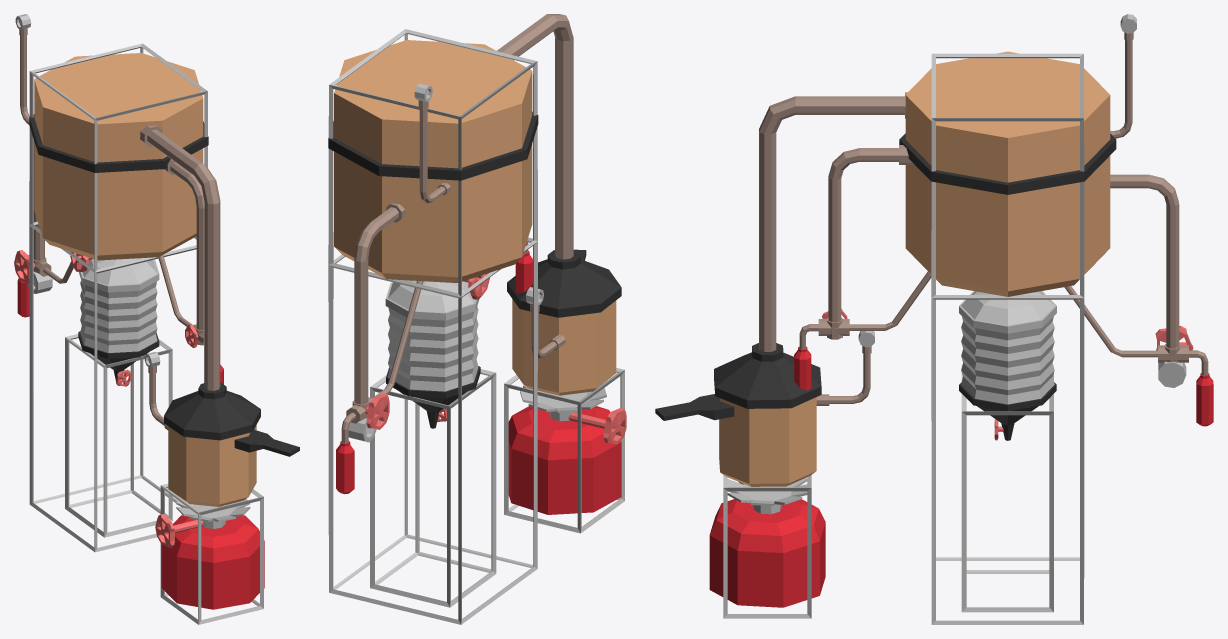
The model's file is station.fbx.
3 views of the same model, side by side, from view 1: azimuth 30°, elevation 25°; view 2: azimuth 150°, elevation 25°; view 3: azimuth 270°, elevation 25° (orthographic). The views are drawn at different scales.
Visible parts, largest first — view 1: Cylinder.002; view 2: Cylinder.002; view 3: Cylinder.002.
Boxes of the visible parts, x1,y1,x2,y2 form: Cylinder.002: (14,14,299,624); Cylinder.002: (328,14,626,624); Cylinder.002: (655,14,1213,624).
Bounding box in the file's own units: 175 × 503 × 451.
